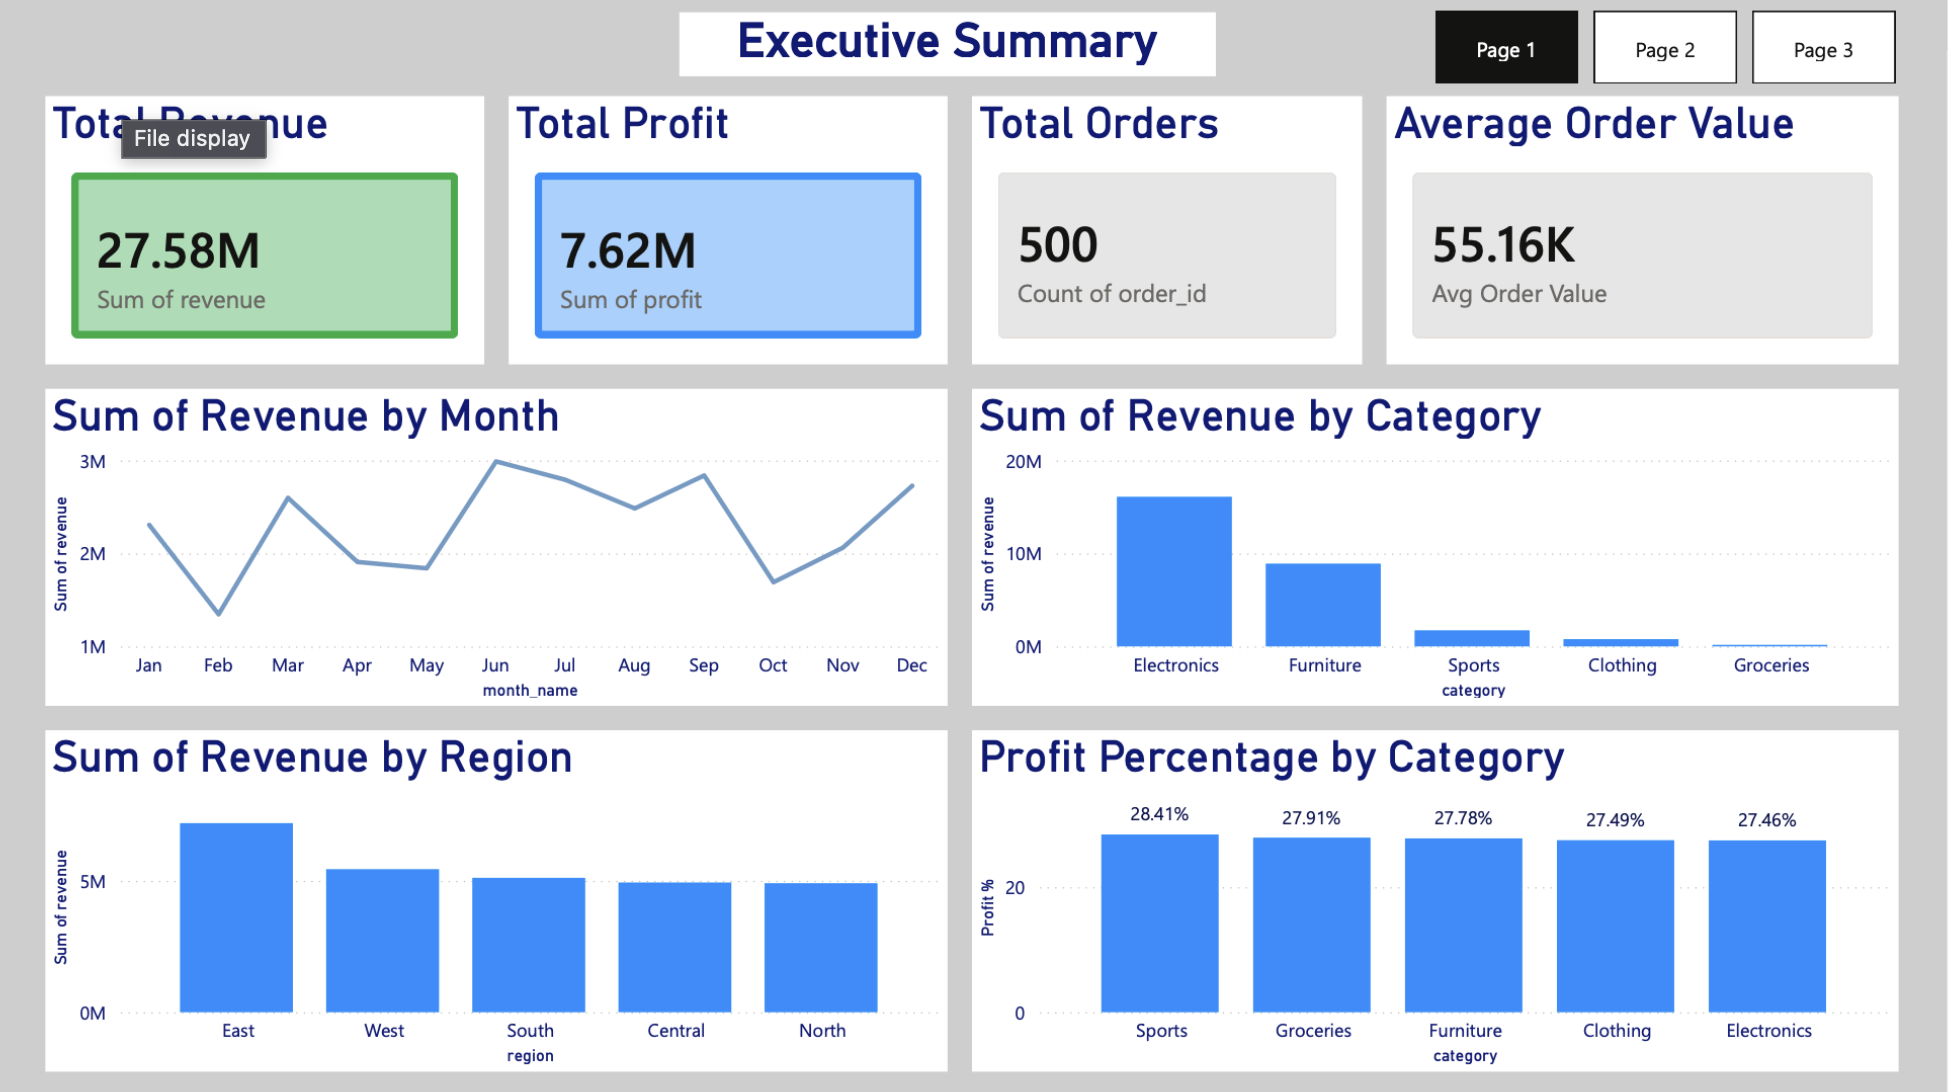

This screenshot's page, from the dashboard's own definition file:
{"tool":"powerbi","page":{"name":"Page 1","canvas":[1280,720],"ordinal":0},"visuals":[{"type":"cardVisual","title":"Total Revenue","fields":{"Data":["Sum(sales_transactions.revenue)"]},"box":[32,64,288,176],"z":0},{"type":"cardVisual","title":"Total Profit","fields":{"Data":["Sum(sales_transactions.profit)"]},"box":[336,64,288,176],"z":1000},{"type":"cardVisual","title":"Total Orders","fields":{"Data":["Count(sales_transactions.order_id)"]},"box":[640,64,256,176],"z":2000},{"type":"cardVisual","title":"Average Order Value","fields":{"Data":["customers.Avg Order Value"]},"box":[912,64,336,176],"z":3000},{"type":"lineChart","title":"Sum of Revenue by Month ","fields":{"Y":["Sum(sales_transactions.revenue)"],"Category":["sales_transactions.month_name"]},"box":[32,256,592,208],"z":4000},{"type":"columnChart","title":"Sum of Revenue by Category","fields":{"Category":["sales_transactions.category"],"Y":["Sum(sales_transactions.revenue)"]},"box":[640,256,608,208],"z":5000},{"type":"columnChart","title":"Sum of Revenue by Region","fields":{"Category":["sales_transactions.region"],"Y":["Sum(sales_transactions.revenue)"]},"box":[32,480,592,224],"z":6000},{"type":"columnChart","title":"Profit Percentage by Category","fields":{"Category":["sales_transactions.category"],"Y":["sales_targets.Profit %"]},"box":[640,480,608,224],"z":7000},{"type":"textbox","title":"Executive Summary","box":[448,9,352,42],"z":8000},{"type":"pageNavigator","box":[944,8,304,48],"z":8001}]}

Visuals, with their boxes on the page's 1280x720 design canvas (x1, y1, x2, y2). These are canvas units, not pixel positions in the 1948x1092 screenshot, which may show the page scaled, cropped or inside an application window:
"Total Revenue" cardVisual: locate(32, 64, 320, 240)
"Total Profit" cardVisual: locate(336, 64, 624, 240)
"Total Orders" cardVisual: locate(640, 64, 896, 240)
"Average Order Value" cardVisual: locate(912, 64, 1248, 240)
"Sum of Revenue by Month " lineChart: locate(32, 256, 624, 464)
"Sum of Revenue by Category" columnChart: locate(640, 256, 1248, 464)
"Sum of Revenue by Region" columnChart: locate(32, 480, 624, 704)
"Profit Percentage by Category" columnChart: locate(640, 480, 1248, 704)
"Executive Summary" textbox: locate(448, 9, 800, 51)
pageNavigator: locate(944, 8, 1248, 56)
